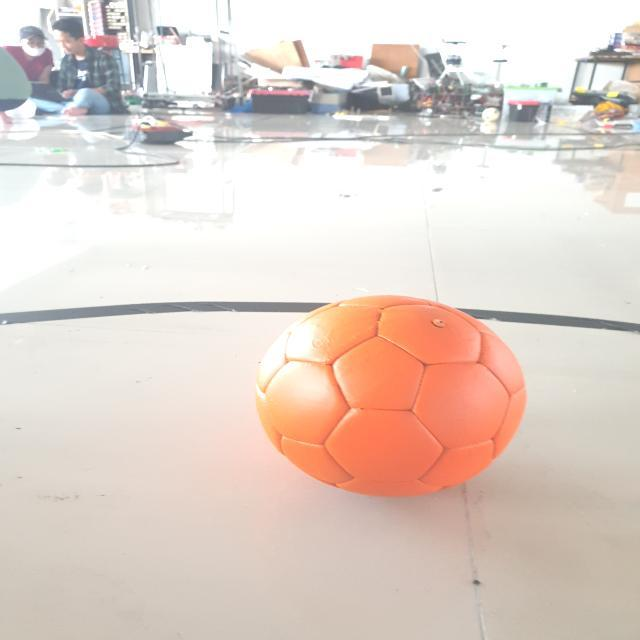bola: (256, 291, 534, 507)
